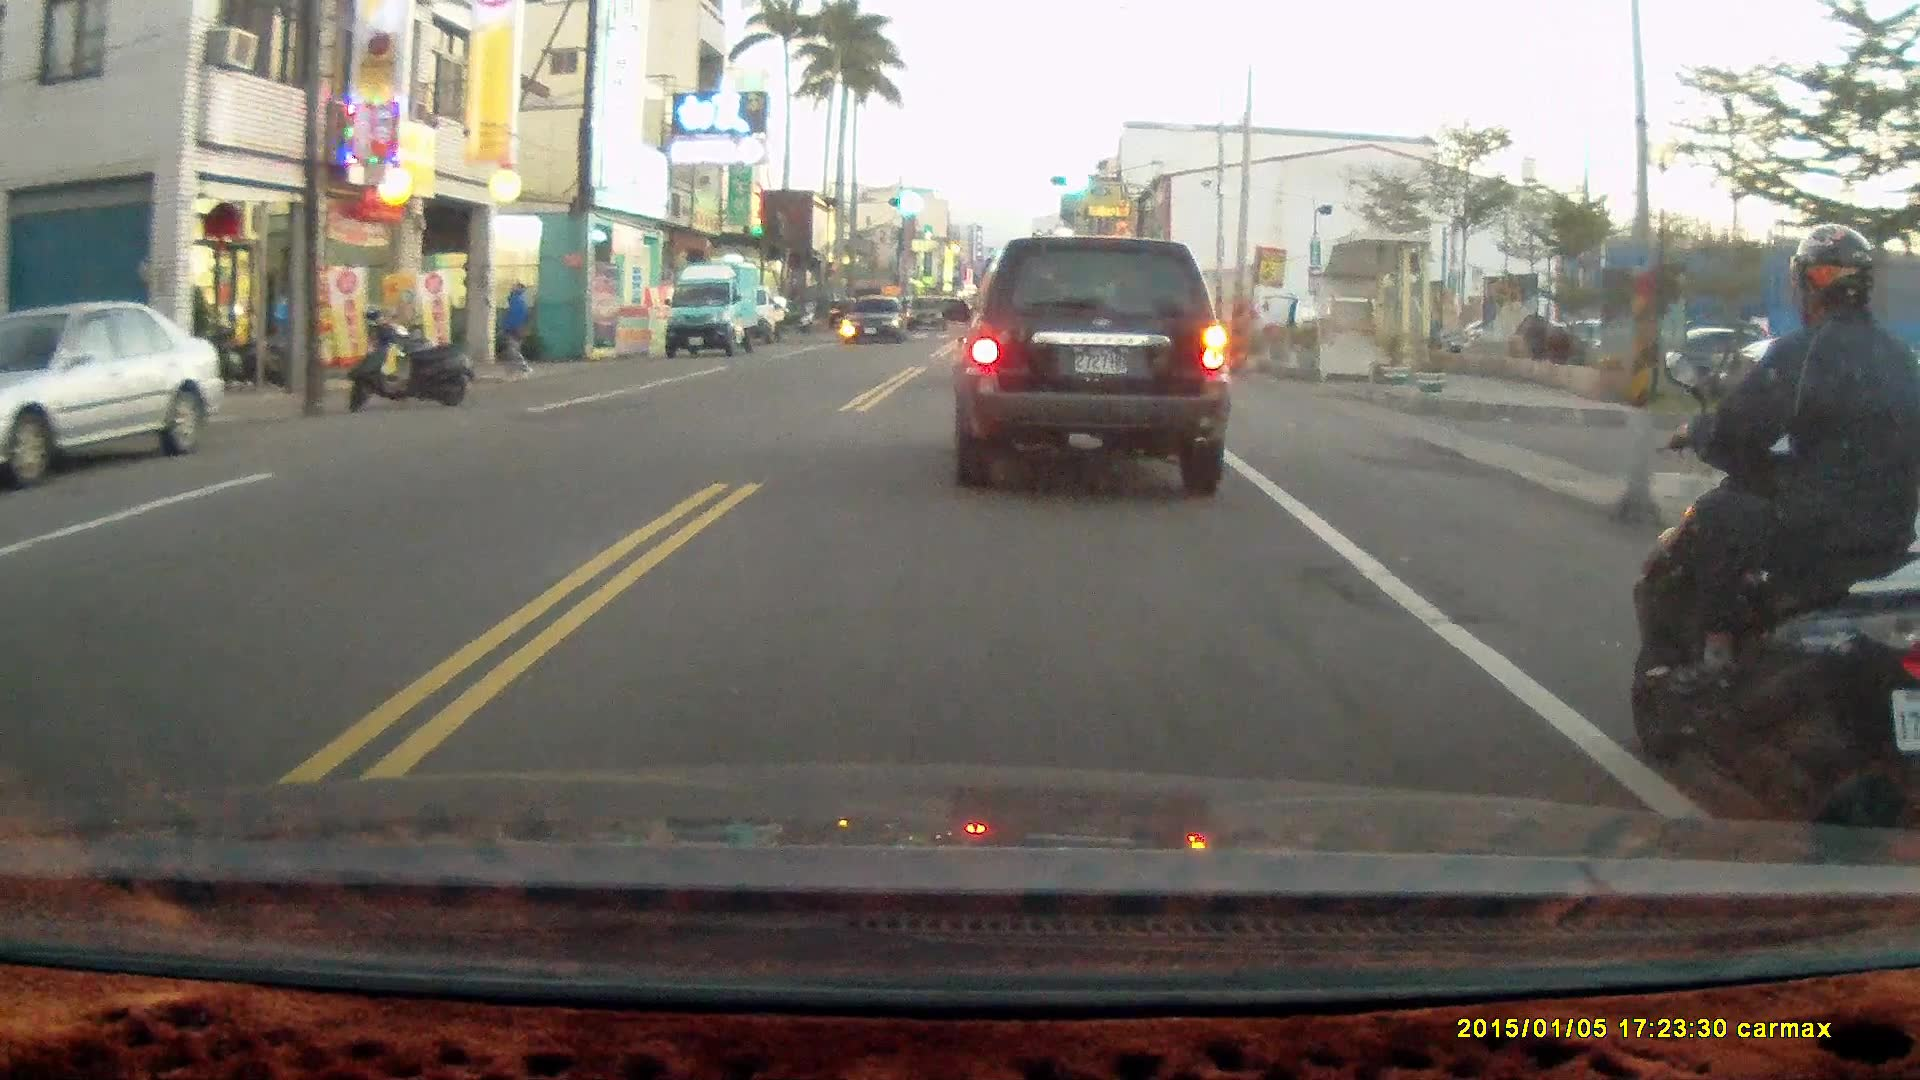pedestrian: (499, 280, 534, 380)
rider: (1628, 222, 1920, 861)
vehicle: (951, 234, 1232, 502), (1, 301, 227, 487), (667, 256, 766, 362), (840, 296, 912, 346)
